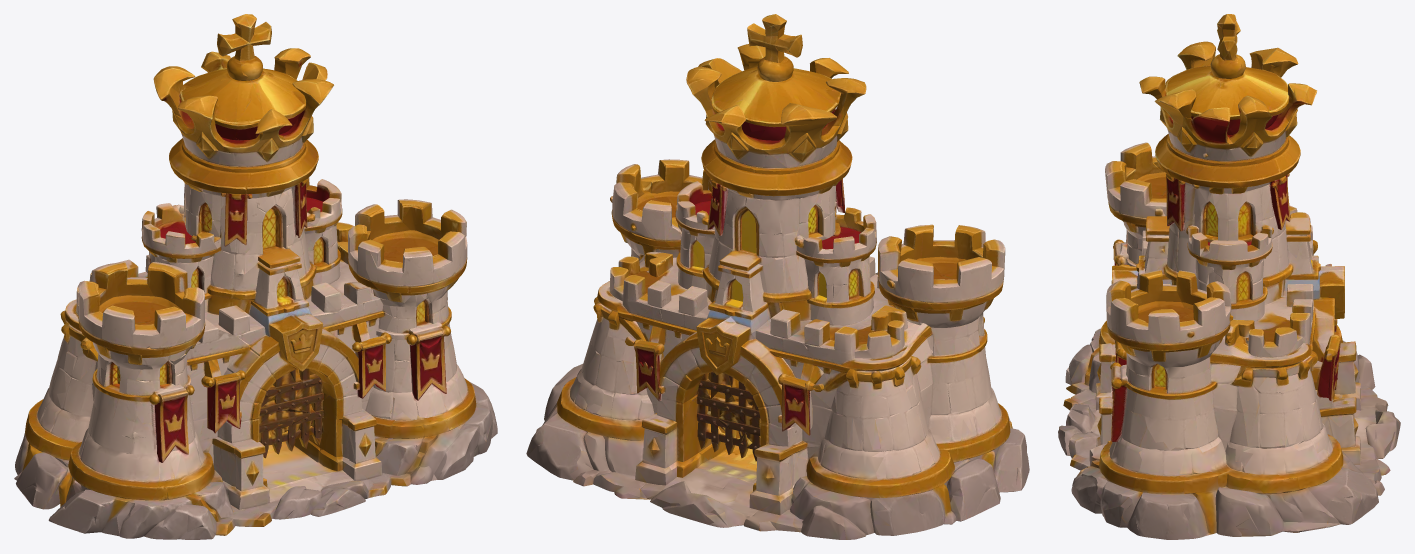
File: bld_chesscastle.glb
3 views of the same model, side by side, from view 1: azimuth 30°, elevation 25°; view 2: azimuth 150°, elevation 25°; view 3: azimuth 270°, elevation 25° (orthographic). The views are drawn at different scales.
Parts seen in each view (by area): view 1: output_unwrapped; view 2: output_unwrapped; view 3: output_unwrapped.
Boxes of the visible parts, x1,y1,x2,y2 form: output_unwrapped: (14,14,497,539); output_unwrapped: (526,14,1029,539); output_unwrapped: (1058,14,1400,539).
Bounding box in the file's own units: 1.9 × 1.82 × 1.33.
Materials: 1 (1 with a texture image).
